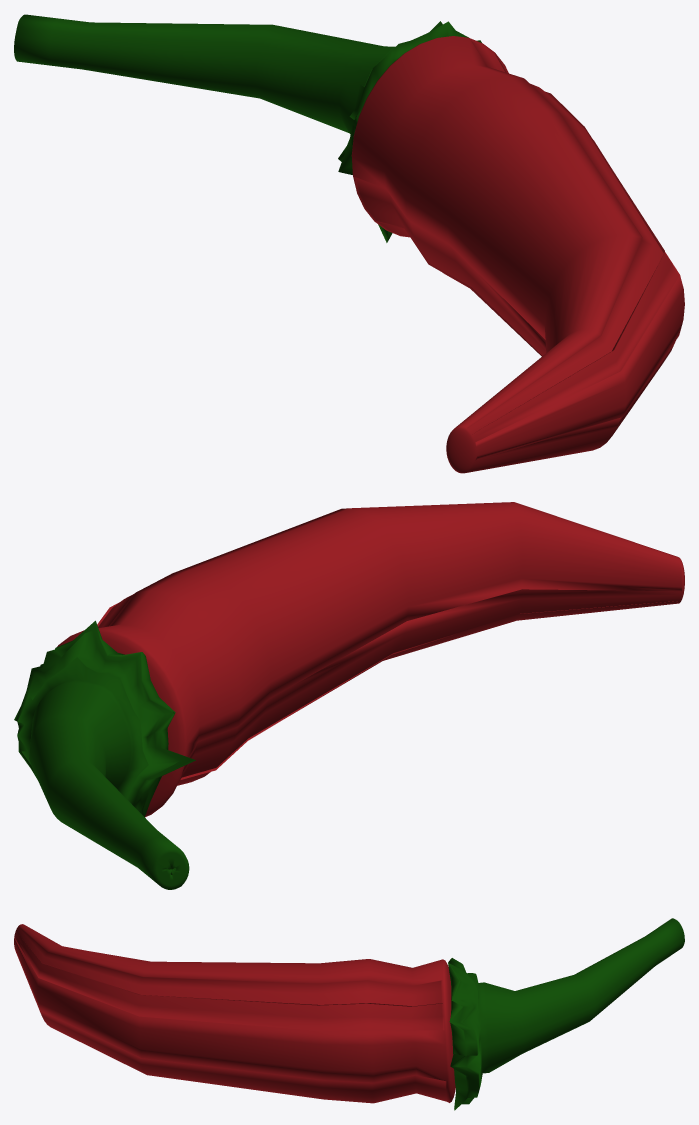
Rendered from chiliPepper.fbx.
The picture shows the model from 3 angles, top to bottom: view 1: azimuth 30°, elevation 25°; view 2: azimuth 150°, elevation 25°; view 3: azimuth 270°, elevation 25°; orthographic projection. The views are drawn at different scales.
Visible parts, largest first — view 1: red part, stem; view 2: red part, stem; view 3: red part, stem.
Boxes of the visible parts, x1=… form: red part: x1=351, y1=36, x2=684, y2=473; stem: x1=14, y1=14, x2=481, y2=242; red part: x1=57, y1=502, x2=684, y2=817; stem: x1=14, y1=620, x2=195, y2=889; red part: x1=14, y1=924, x2=455, y2=1103; stem: x1=448, y1=918, x2=684, y2=1110.
Size of the model in its own units: 0.4014 by 0.2164 by 0.906.
